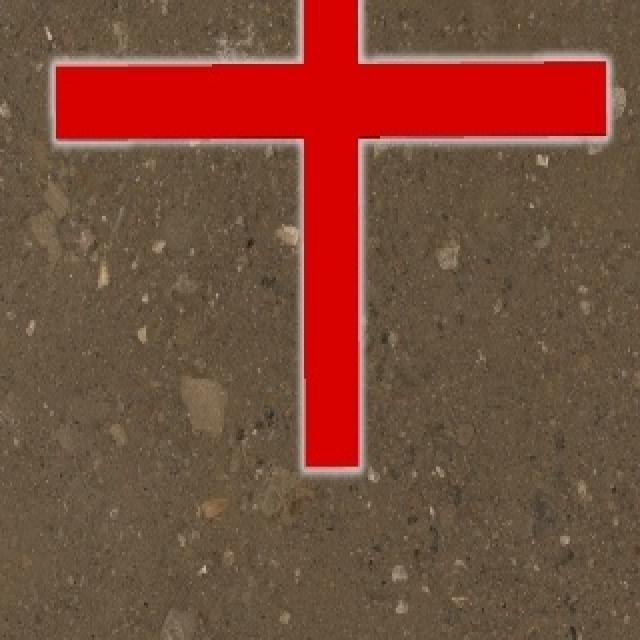x_marker: (53, 0, 607, 467)
